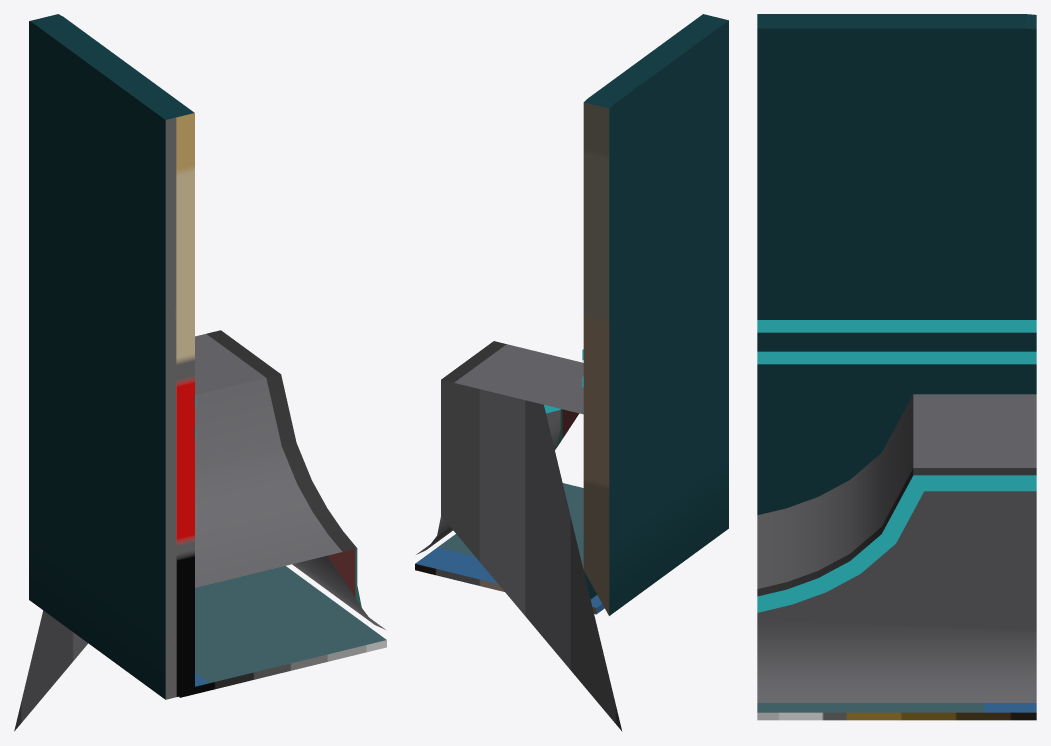
The model's file is tile_0_0_10.gltf.
The picture shows the model from 3 angles, left to right: view 1: azimuth 30°, elevation 25°; view 2: azimuth 150°, elevation 25°; view 3: azimuth 270°, elevation 25°; orthographic projection. The views are drawn at different scales.
Visible parts, largest first — view 1: wall.west.010, pipe.west.001, ground; view 2: wall.west.010, pipe.west.001, ground; view 3: wall.west.010, pipe.west.001, neons.002, ground.
Part boxes in pixels (x1,y1,x2,y2): wall.west.010: (29, 14, 194, 699); pipe.west.001: (14, 330, 385, 731); ground: (179, 566, 386, 697); wall.west.010: (583, 14, 728, 615); pipe.west.001: (416, 341, 622, 731); ground: (415, 483, 604, 614); wall.west.010: (757, 14, 1036, 515); pipe.west.001: (757, 394, 1036, 702); neons.002: (757, 320, 1036, 364); ground: (757, 703, 1036, 720).
Size of what is drawn, in the model's own units: 8 by 22.9 by 8.
2 materials, 2 textured.
